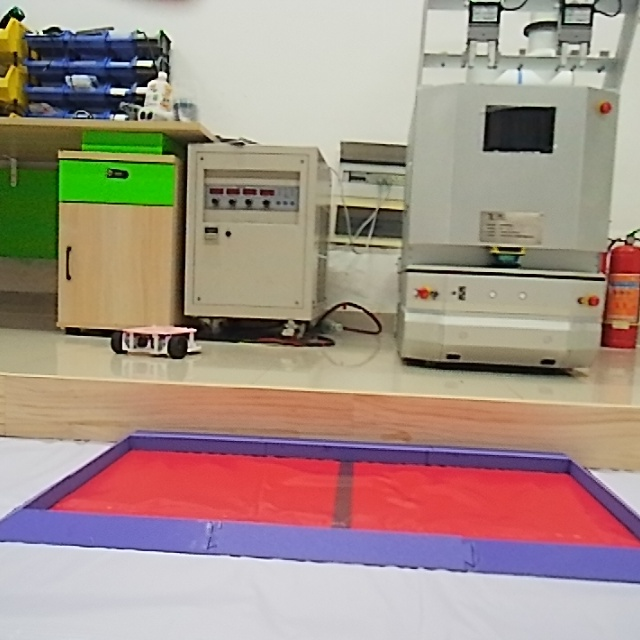zone1: (3, 419, 636, 585)
